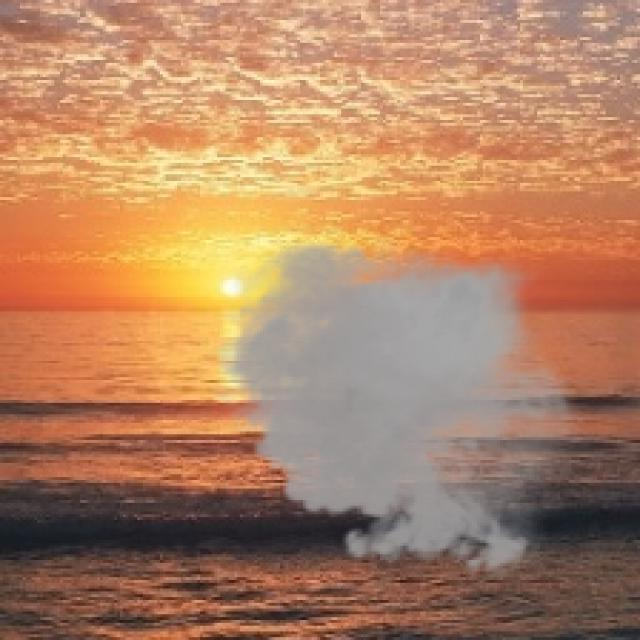Smoke: (203, 228, 592, 583)
